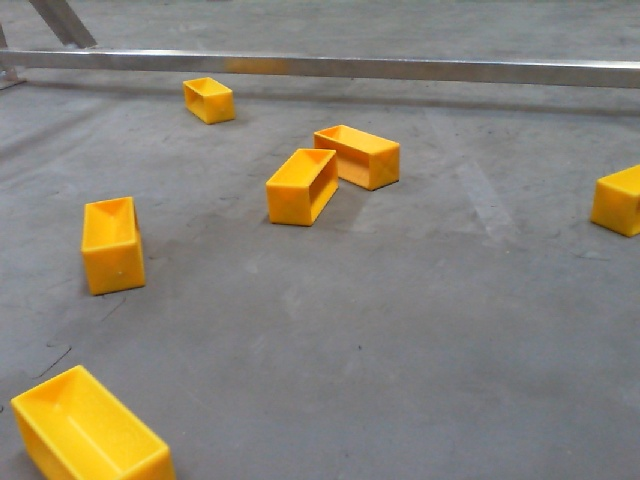YellowSample: (6, 361, 176, 480), (260, 146, 343, 229), (79, 197, 148, 296), (310, 124, 408, 191), (588, 161, 640, 240), (178, 74, 238, 126)
